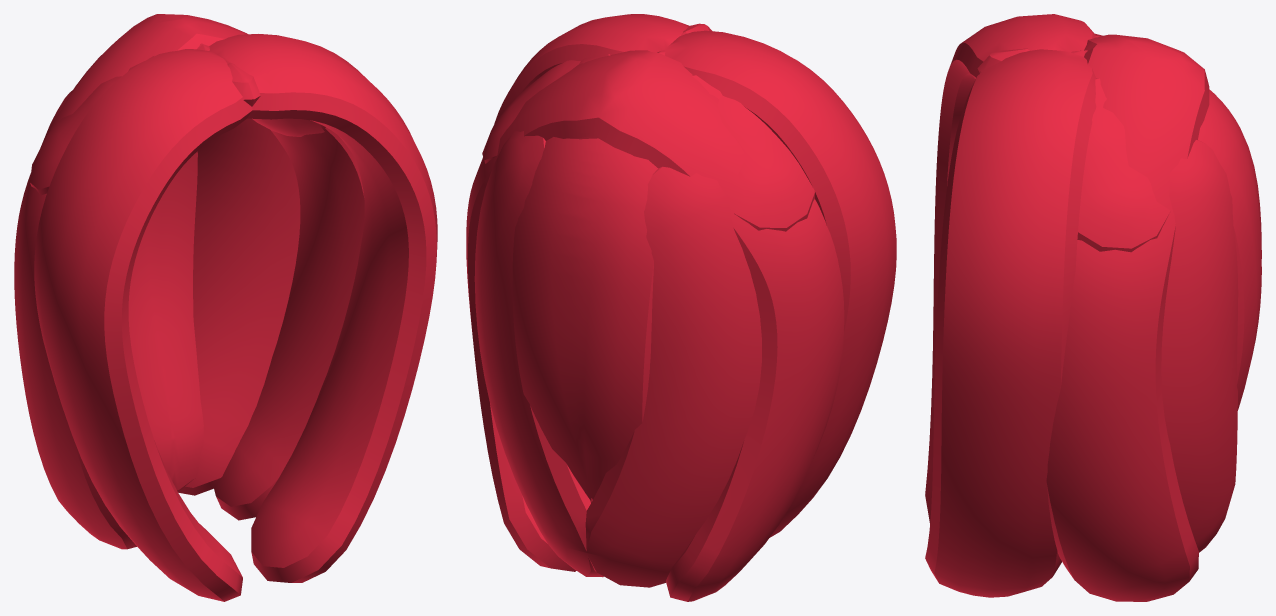
The model's file is hair for skinny straight and sim.fbx.
3 views of the same model, side by side, from view 1: azimuth 30°, elevation 25°; view 2: azimuth 150°, elevation 25°; view 3: azimuth 270°, elevation 25° (orthographic). The views are drawn at different scales.
Visible parts, largest first — view 1: skinny4; view 2: skinny4; view 3: skinny4.
Boxes of the visible parts, left/top/right/bottom form: skinny4: left=14, top=14, right=437, bottom=601; skinny4: left=466, top=14, right=896, bottom=601; skinny4: left=925, top=14, right=1261, bottom=601.
Size of the model in its own units: 49.81 by 66.57 by 37.73.
